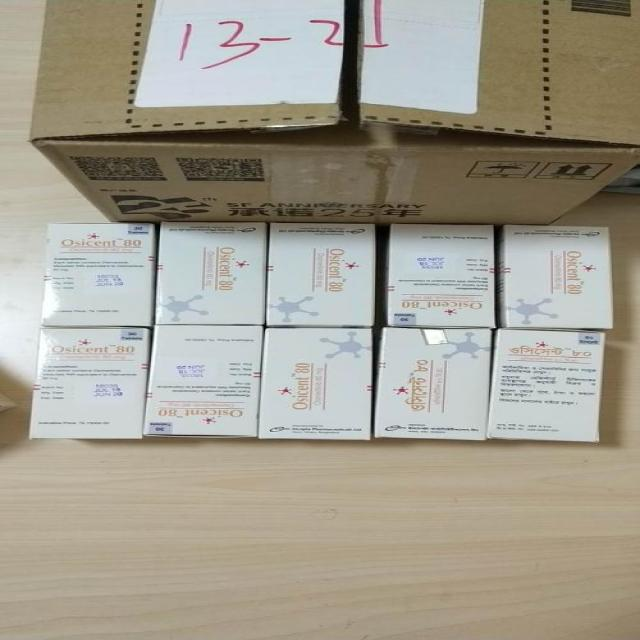box: (33, 1, 639, 228), (373, 327, 497, 440), (29, 323, 149, 439), (259, 326, 381, 439), (140, 323, 260, 436), (491, 331, 611, 440), (150, 221, 273, 326), (384, 223, 502, 329), (263, 222, 381, 327), (39, 223, 157, 325), (501, 225, 612, 330)
